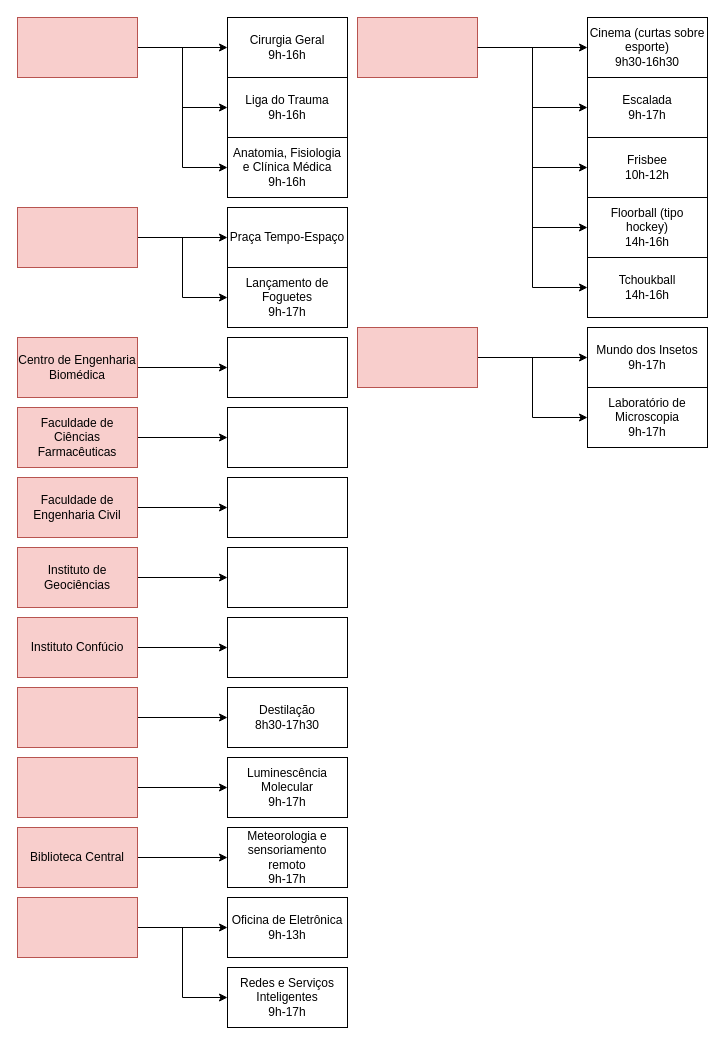
Some shapes in this 725 by 1045 pixel diagram are drawn without their labels. Here are the shapes that lost their labels. From the top down, the box of each, then its label:
(16, 16, 138, 78): Faculdade de Ciências Médicas
(356, 16, 478, 78): Faculdade de Educação Física
(16, 206, 138, 268): Museu Exploratório de Ciências
(226, 336, 348, 398): Ultrassom 9h30-17h
(356, 326, 478, 388): Instituto de Biologia
(226, 406, 348, 468): Cuidado Farmacêutico (jogo de escape) 9h-16h
(226, 476, 348, 538): Conhecendo o Tratamento de Água 9h-16h
(226, 546, 348, 608): Vitrines de minerais e rochas e outras coisas brabas
(226, 616, 348, 678): Workshops e cultura oriental 9h-16h
(16, 686, 138, 748): Instituto de Engenharia Química
(16, 756, 138, 818): Instituto de Química
(16, 896, 138, 958): Engenharia Elétrica
